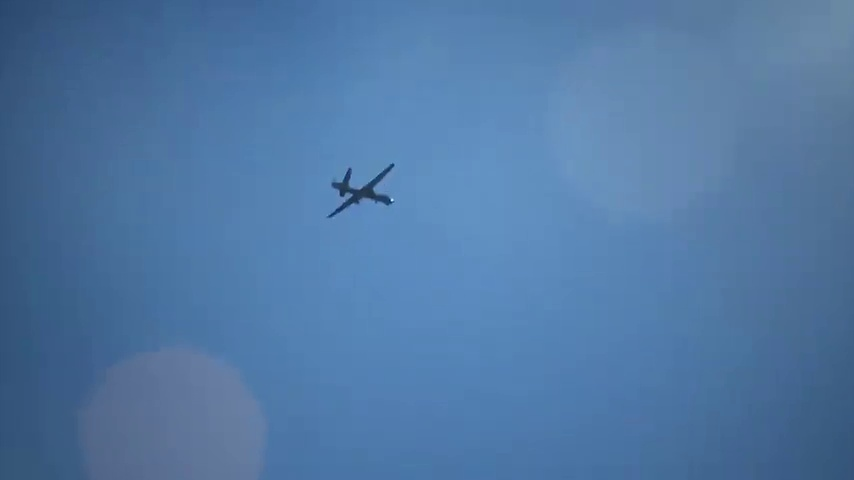military drone: (326, 162, 394, 218)
